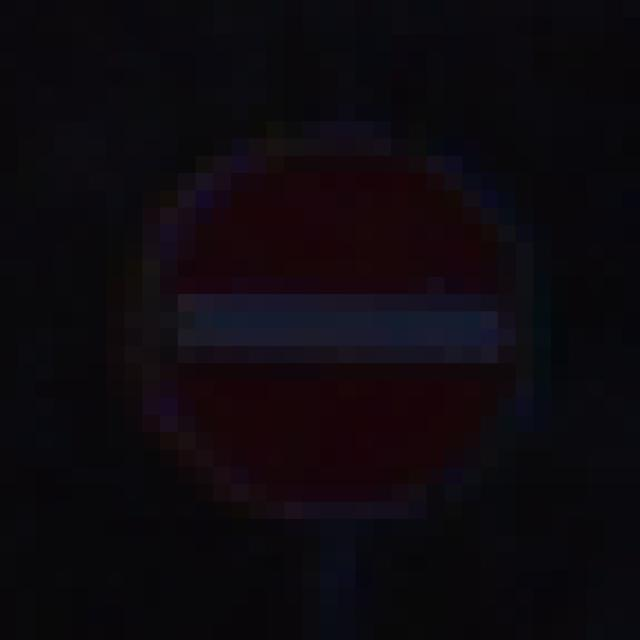No Entry: (108, 105, 552, 554)
